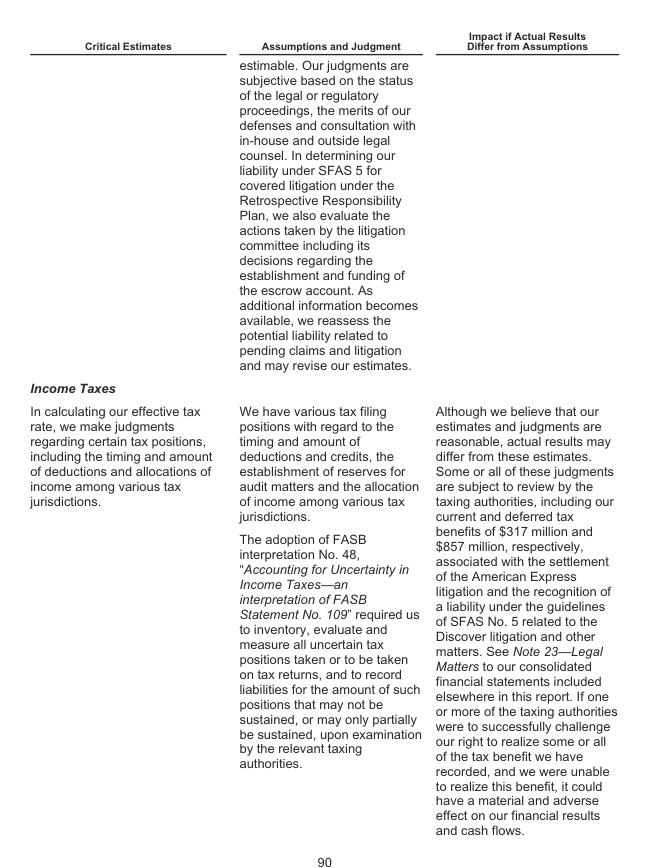table: (29, 29, 616, 837)
table column: (224, 29, 427, 837), (29, 29, 224, 837), (427, 29, 616, 837)
table column header: (29, 29, 616, 375)
table projected row header: (29, 375, 616, 398)
table row: (29, 398, 616, 837), (29, 29, 616, 375), (29, 375, 616, 398)
